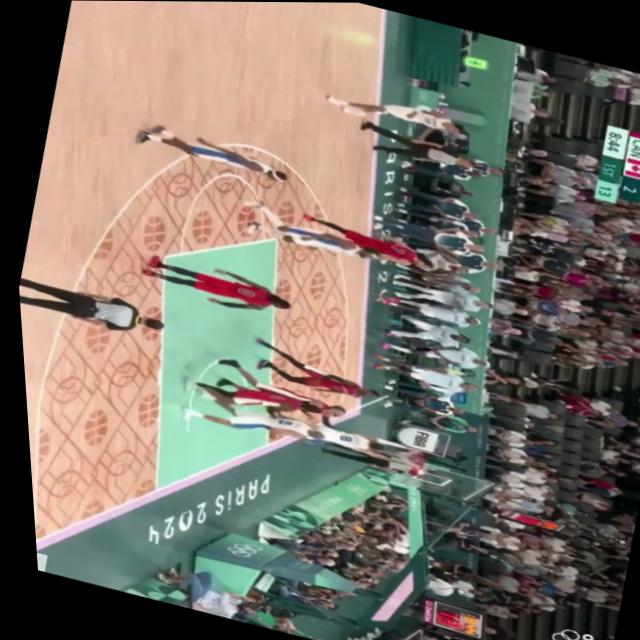ball_handler: (299, 421, 420, 470)
